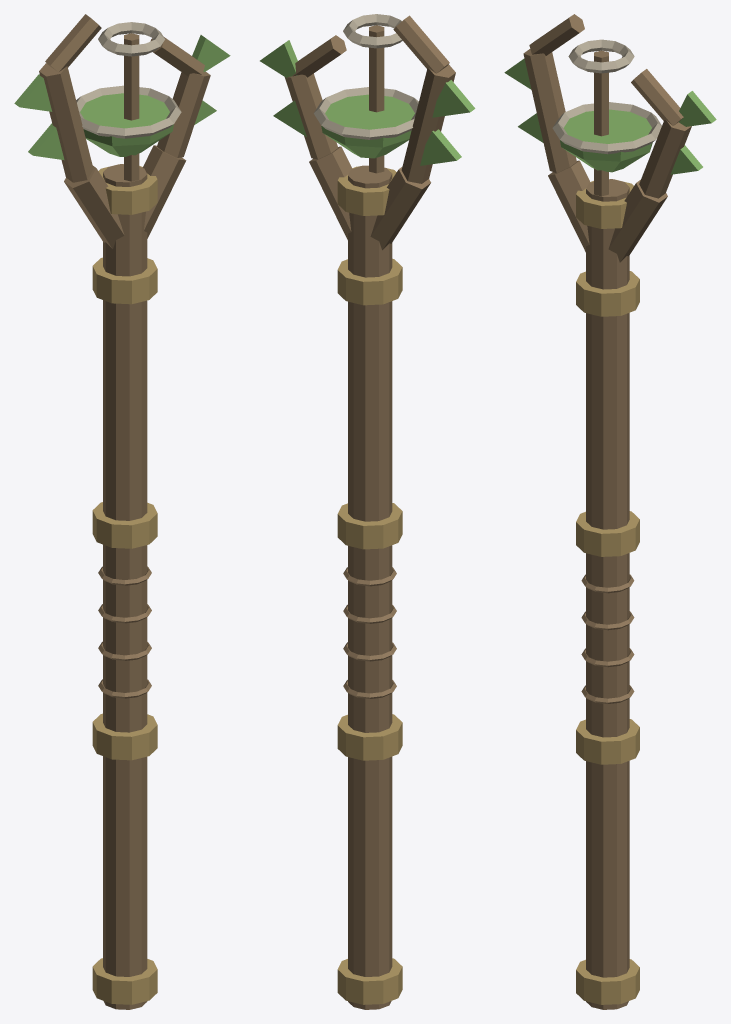
Rendered from Arsenal_ReturningBough.fbx.
3 views of the same model, side by side, from view 1: azimuth 30°, elevation 25°; view 2: azimuth 150°, elevation 25°; view 3: azimuth 330°, elevation 25° (orthographic).
Parts seen in each view (by area): view 1: Arsenal_ReturningBough; view 2: Arsenal_ReturningBough; view 3: Arsenal_ReturningBough.
Boxes of the visible parts, box(x1,y1,x2,y2) form: Arsenal_ReturningBough: box(14, 14, 230, 1009); Arsenal_ReturningBough: box(260, 14, 475, 1009); Arsenal_ReturningBough: box(504, 14, 716, 1009).
Bounding box in the file's own units: 0.47 × 2.11 × 0.218.
